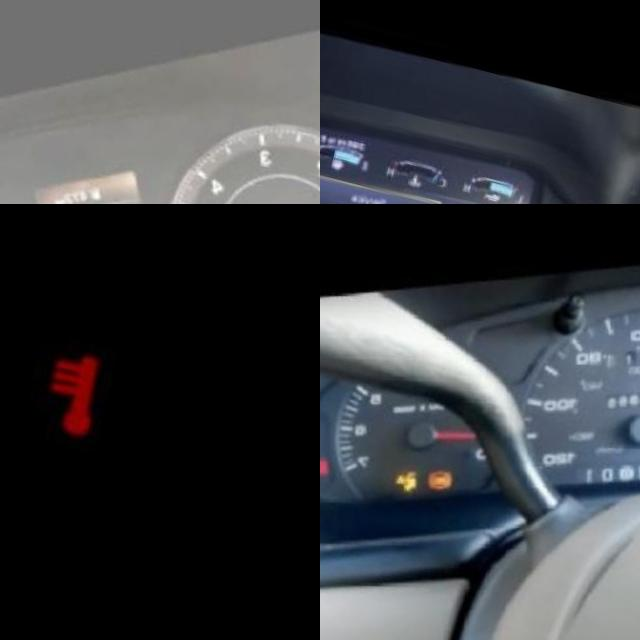Engine cooling system: (424, 157, 437, 168)
High Engine Coolant Temperature: (43, 324, 130, 434)
Low fuel level: (347, 145, 357, 155)
